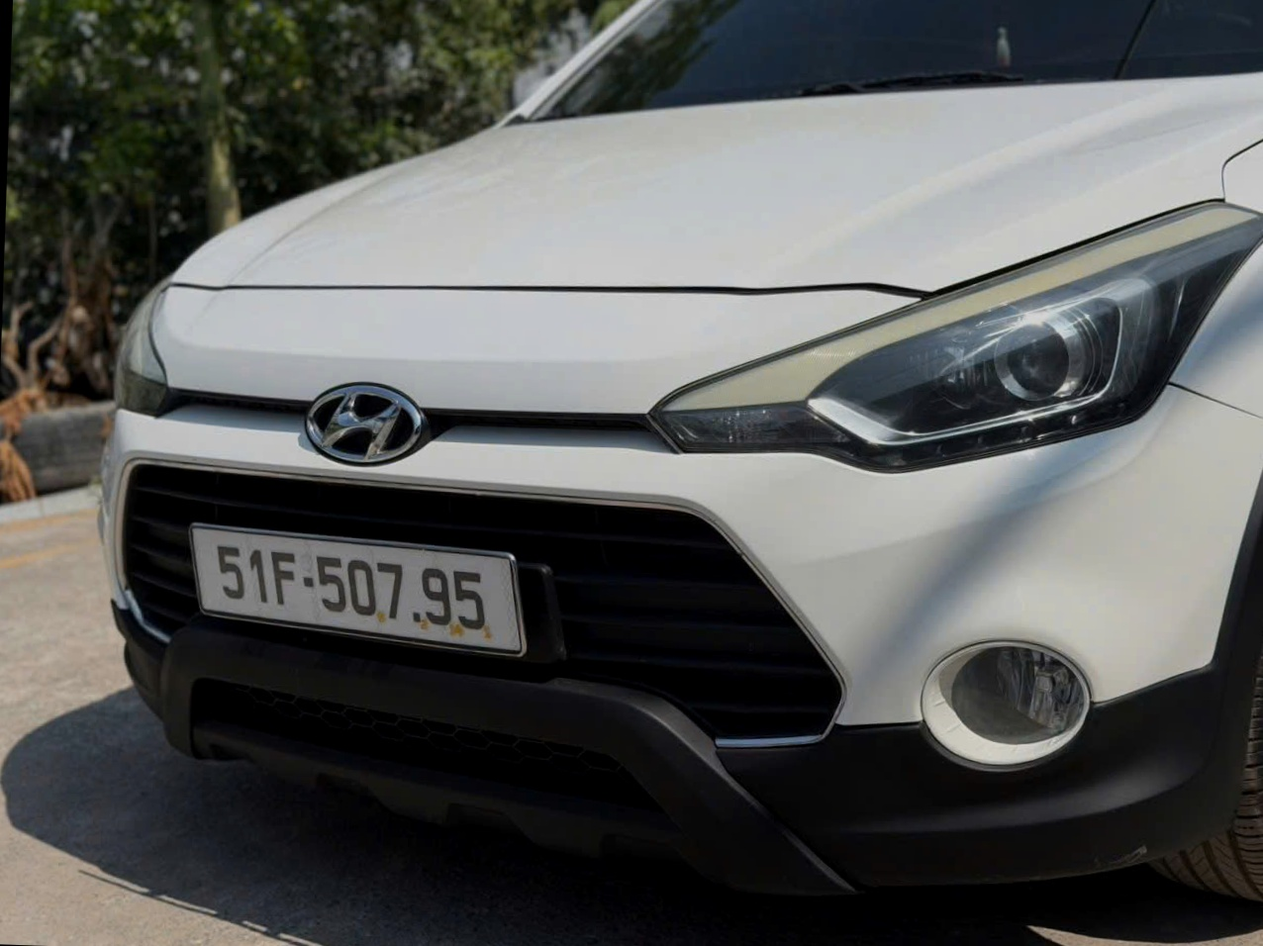Bien-so: (192, 531, 514, 641)
